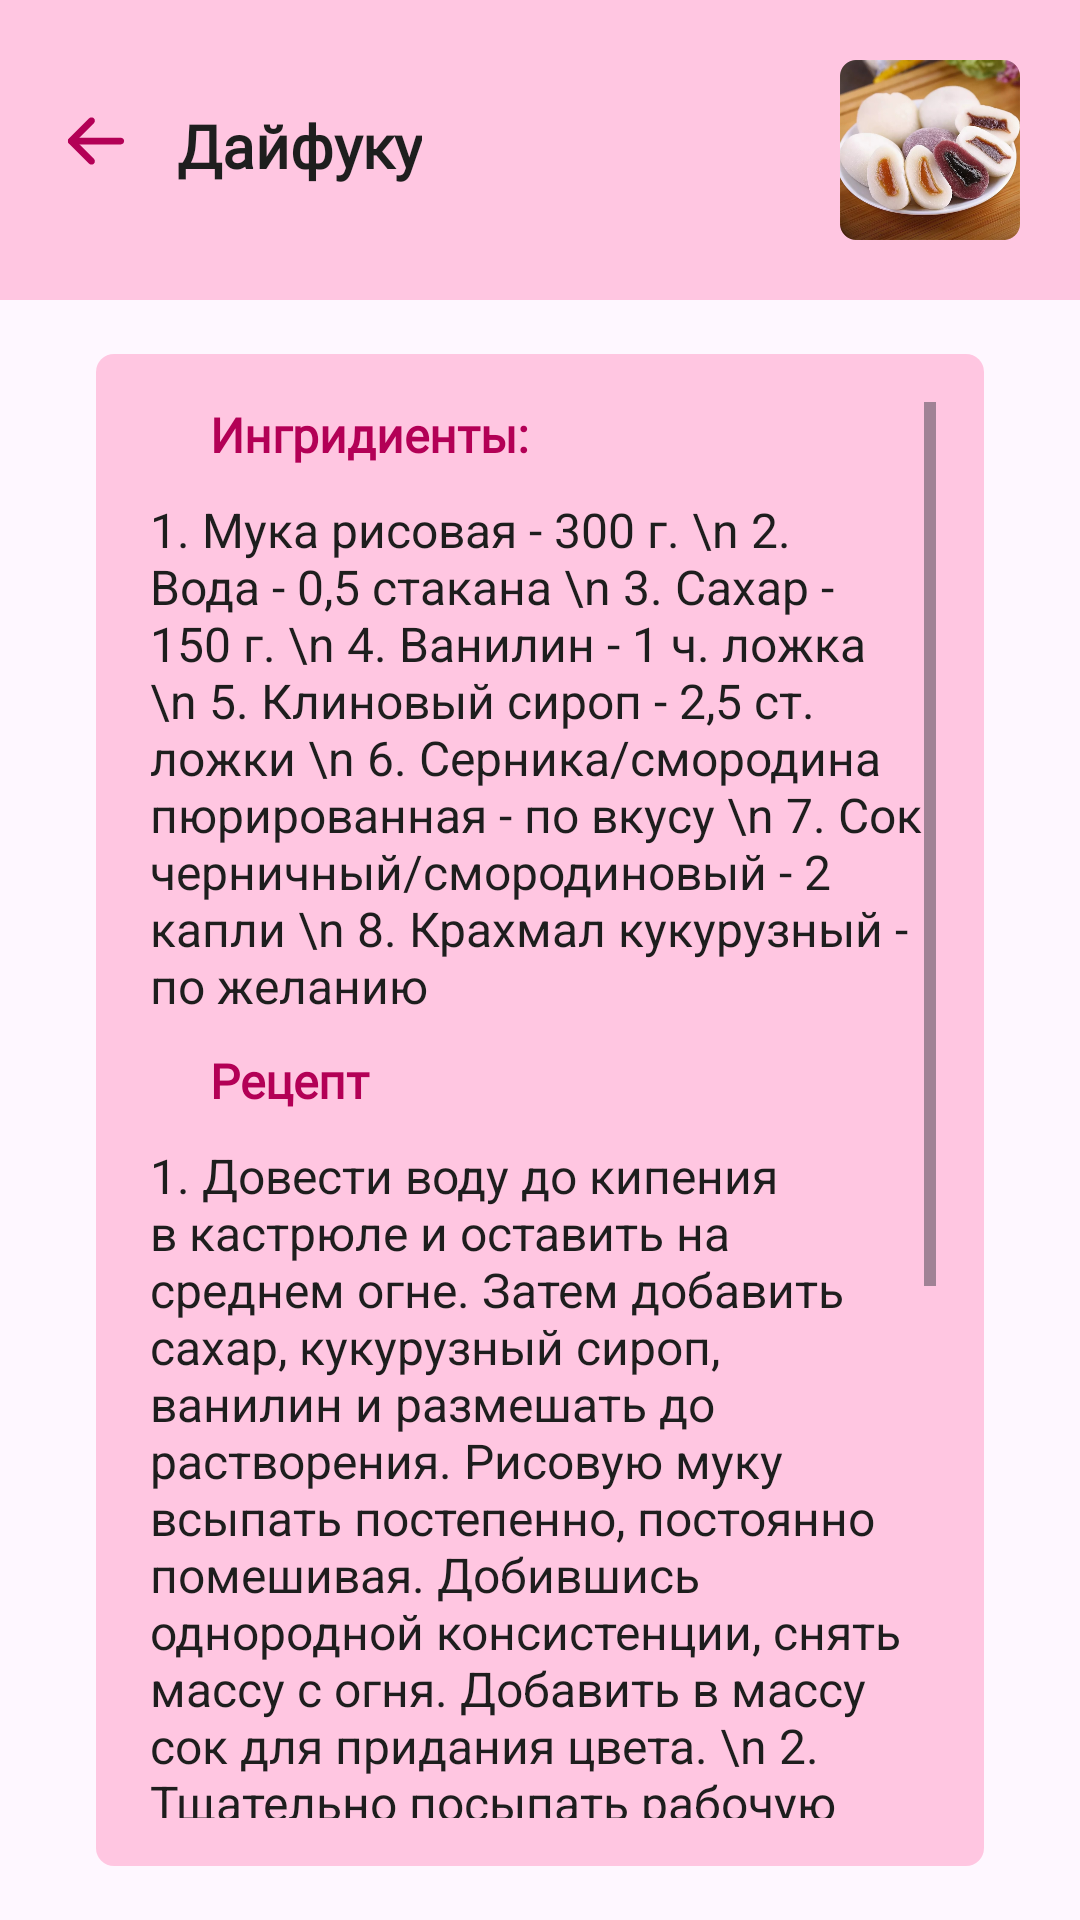

Screen size 1080 x 1920. Icon name, then its box in pixels as (x1, y1, x2, y2):
second back: (68, 117, 124, 165)
